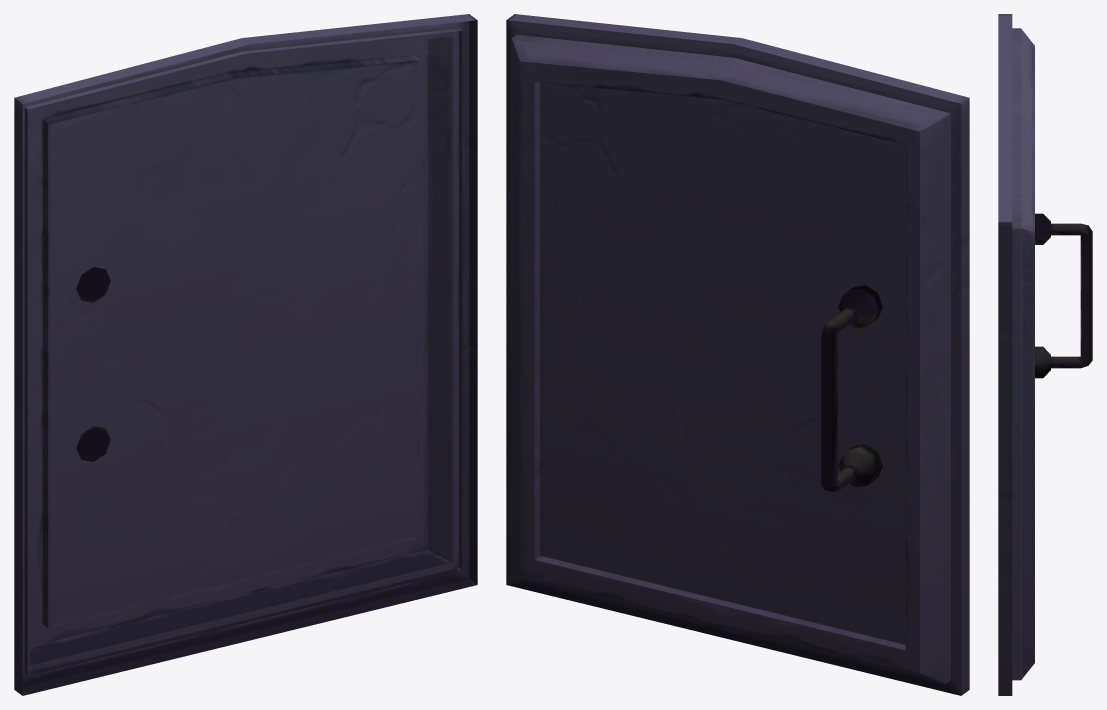
The model's file is MOD_LargeCabinClose_Block.fbx.
3 renders of one model, left to right at view 1: azimuth 30°, elevation 25°; view 2: azimuth 150°, elevation 25°; view 3: azimuth 270°, elevation 25°, orthographic. The views are drawn at different scales.
Visible parts, largest first — view 1: MOD_LargeCabinClose_Block; view 2: MOD_LargeCabinClose_Block; view 3: MOD_LargeCabinClose_Block.
Part boxes in pixels (box(x1,y1,x2,y2)): MOD_LargeCabinClose_Block: box(14, 14, 477, 695); MOD_LargeCabinClose_Block: box(506, 14, 969, 695); MOD_LargeCabinClose_Block: box(998, 14, 1092, 695).
Bounding box in the file's own units: 50.17 × 62.83 × 10.77.
Materials: 1 (1 with a texture image).
